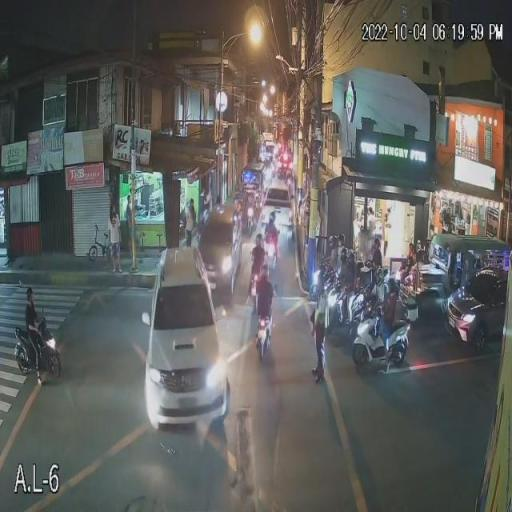helmet: (384, 278, 400, 292), (374, 267, 384, 287), (258, 264, 269, 278), (336, 231, 346, 246), (328, 234, 338, 248), (254, 234, 264, 248), (347, 249, 356, 264), (339, 248, 349, 261), (372, 238, 380, 250), (268, 211, 276, 222)
motorcycle: (350, 316, 412, 364), (14, 326, 62, 380), (326, 286, 349, 327), (255, 318, 277, 357), (308, 262, 328, 297), (352, 291, 376, 320), (265, 228, 281, 270), (364, 261, 386, 283), (249, 264, 258, 304)
rider: (24, 306, 44, 386), (383, 294, 398, 372), (255, 280, 274, 318), (371, 284, 387, 314), (328, 248, 338, 276), (252, 247, 266, 265), (346, 264, 357, 286), (264, 224, 279, 238), (340, 260, 348, 283), (372, 251, 383, 267), (336, 246, 342, 272)
